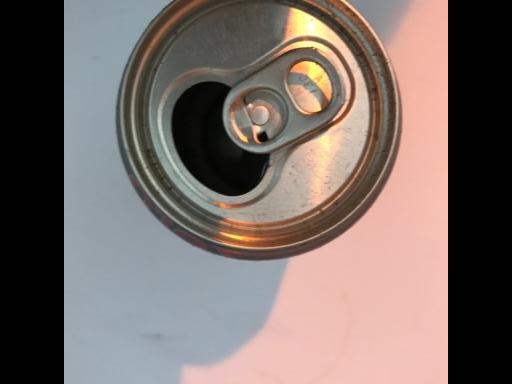metal: (116, 0, 400, 262)
